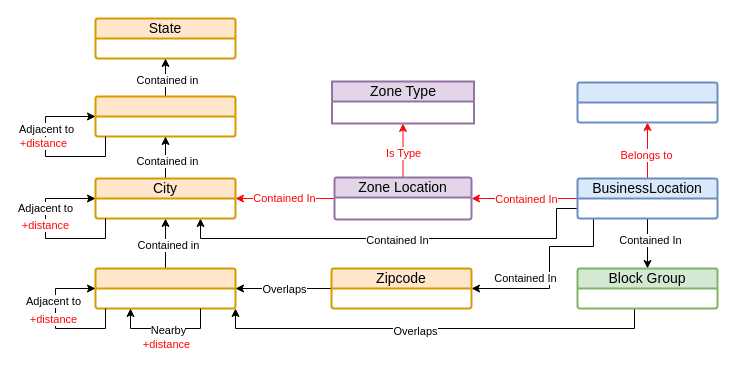
Some shapes in this 735 by 367 pixel diagram are drawn without their labels. The centre of each missing label's shape, as x and y in pixels:
"Business" belongs at point 647,102.
"Community" belongs at point 165,288.
"County" belongs at point 165,116.
